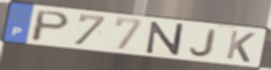7: (112, 16, 146, 53), (74, 12, 108, 47)
J: (188, 28, 220, 58)
K: (224, 29, 258, 64)
N: (145, 21, 185, 57)
P: (28, 9, 73, 43)
